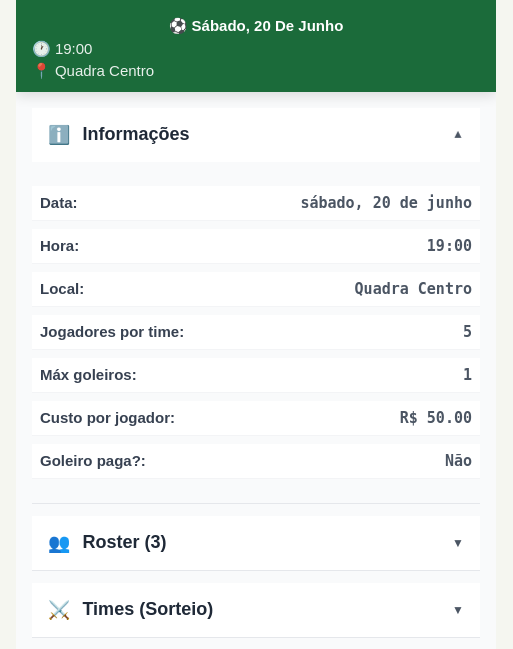
Test: PeladaScreen › displayName format in roster › shows "Name - Nickname" when player has a distinct nickname
# Open roster accordion
Step 1. Click the button "👥 Roster (3) ▼" → (124, 542), box [32,516,480,570]
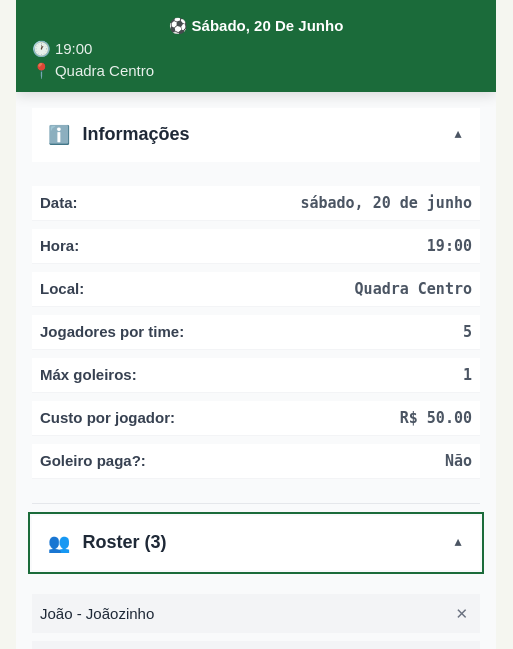
expect the text "João - Joãozinho" is shown: met, box [40,604,154,622]
